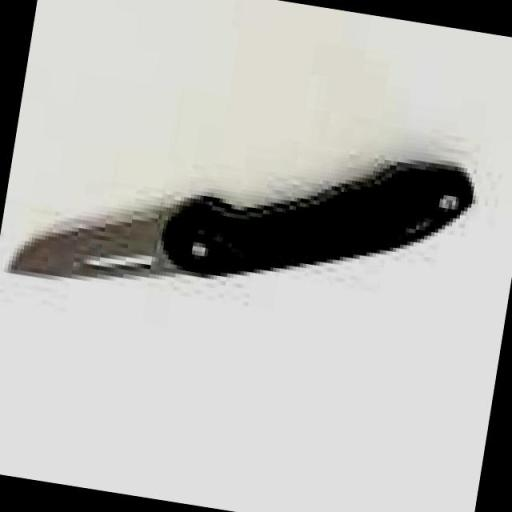knife: (2, 86, 482, 347)
